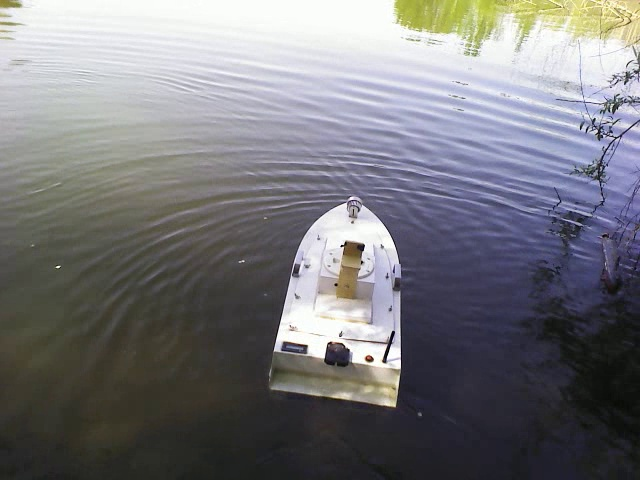boat: (266, 193, 405, 409)
